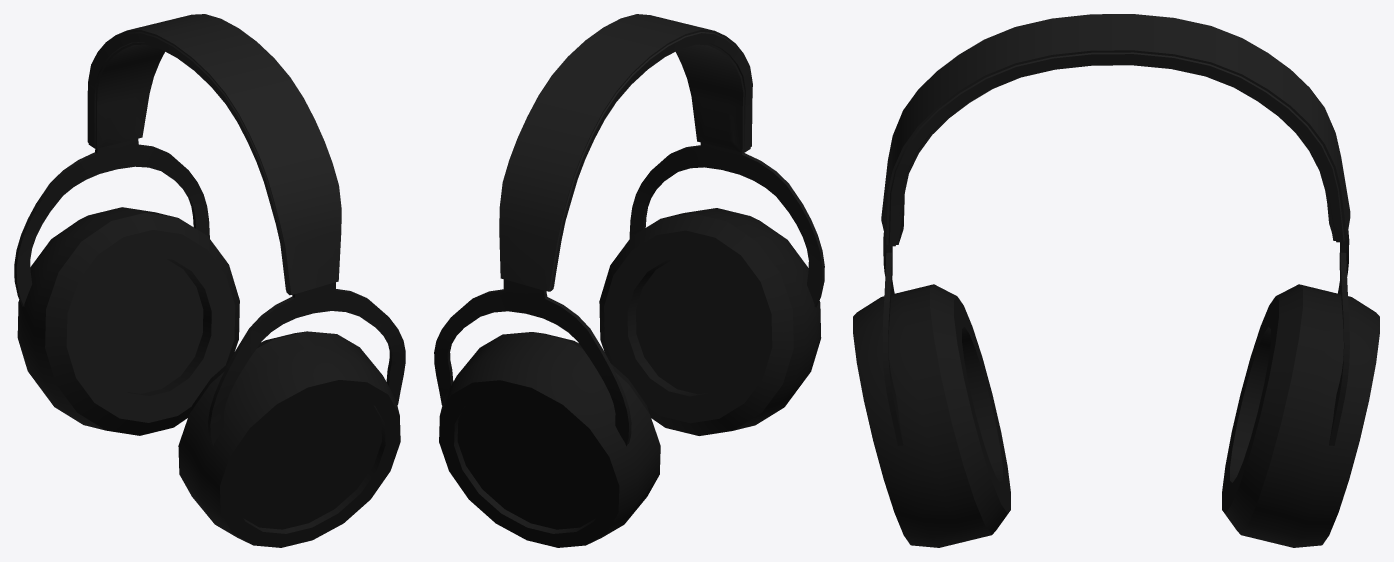
The model's file is Headphones.FBX.
The picture shows the model from 3 angles, left to right: view 1: azimuth 30°, elevation 25°; view 2: azimuth 150°, elevation 25°; view 3: azimuth 270°, elevation 25°; orthographic projection. The views are drawn at different scales.
Parts seen in each view (by area): view 1: headphones; view 2: headphones; view 3: headphones.
Boxes of the visible parts, bbox=[...] form: headphones: bbox=[14, 14, 405, 547]; headphones: bbox=[434, 14, 824, 547]; headphones: bbox=[853, 14, 1379, 547].
Bounding box in the file's own units: 9.83 × 21.14 × 20.
Materials: 1 (1 with a texture image).
